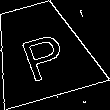P_N: (12, 21, 70, 81)
